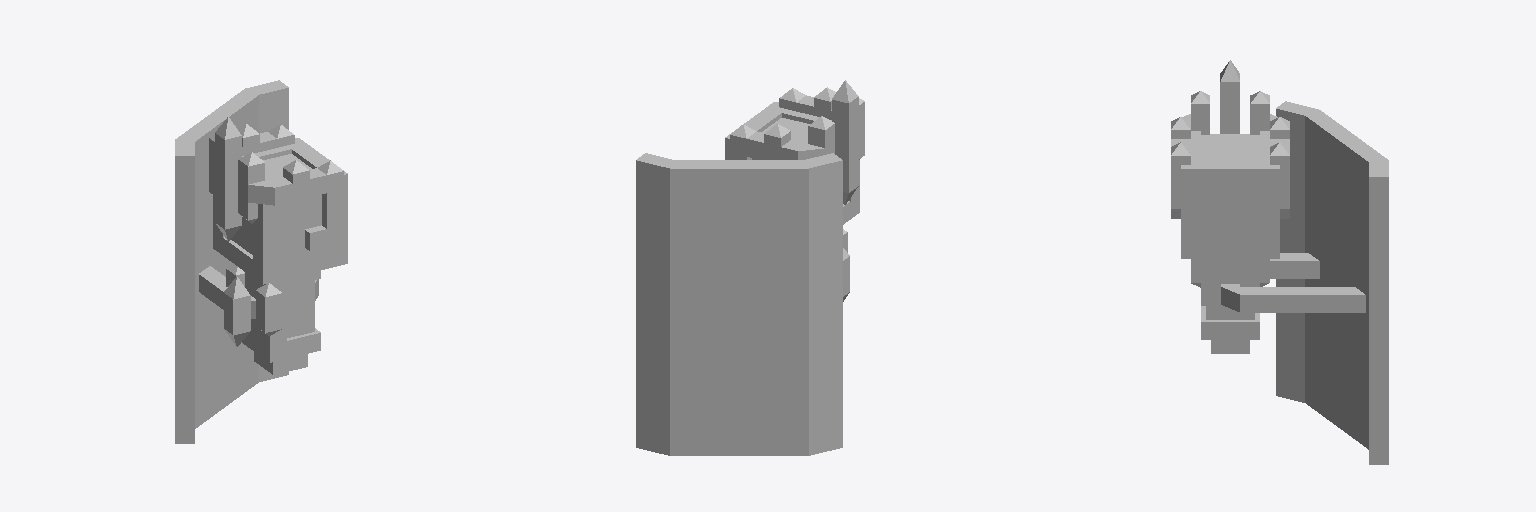
The model's file is arm_shield_l.obj.
3 views of the same model, side by side, from view 1: azimuth 30°, elevation 25°; view 2: azimuth 150°, elevation 25°; view 3: azimuth 270°, elevation 25° (orthographic).
Parts seen in each view (by area): view 1: ARM_LEFT_SHIELD_Cube.026, ARM_LEFT_DECO_GOLD_Cube.221; view 2: ARM_LEFT_SHIELD_Cube.026, ARM_LEFT_DECO_GOLD_Cube.221; view 3: ARM_LEFT_SHIELD_Cube.026, ARM_LEFT_DECO_GOLD_Cube.221.
Boxes of the visible parts, x1,y1,x2,y2 form: ARM_LEFT_SHIELD_Cube.026: [175, 80, 347, 443]; ARM_LEFT_DECO_GOLD_Cube.221: [209, 116, 343, 346]; ARM_LEFT_SHIELD_Cube.026: [636, 102, 859, 455]; ARM_LEFT_DECO_GOLD_Cube.221: [730, 80, 864, 301]; ARM_LEFT_SHIELD_Cube.026: [1181, 101, 1388, 464]; ARM_LEFT_DECO_GOLD_Cube.221: [1171, 60, 1289, 287].
Bounding box in the file's own units: 0.5664 × 1.19 × 0.6884.